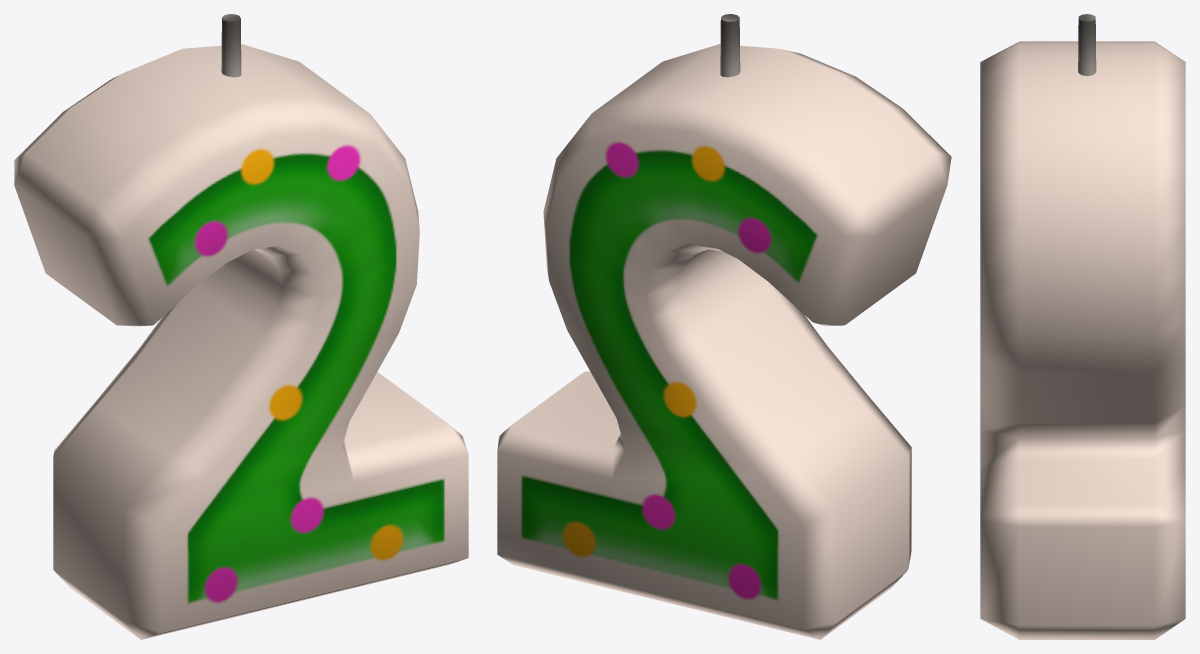
Rendered from Candle_2.fbx.
The picture shows the model from 3 angles, left to right: view 1: azimuth 30°, elevation 25°; view 2: azimuth 150°, elevation 25°; view 3: azimuth 270°, elevation 25°; orthographic projection. The views are drawn at different scales.
Visible parts, largest first — view 1: Candle_2; view 2: Candle_2; view 3: Candle_2.
Boxes of the visible parts, x1,y1,x2,y2 form: Candle_2: (14,14,468,639); Candle_2: (497,14,951,639); Candle_2: (980,14,1185,639).
Bounding box in the file's own units: 21.32 × 30.52 × 10.56.
